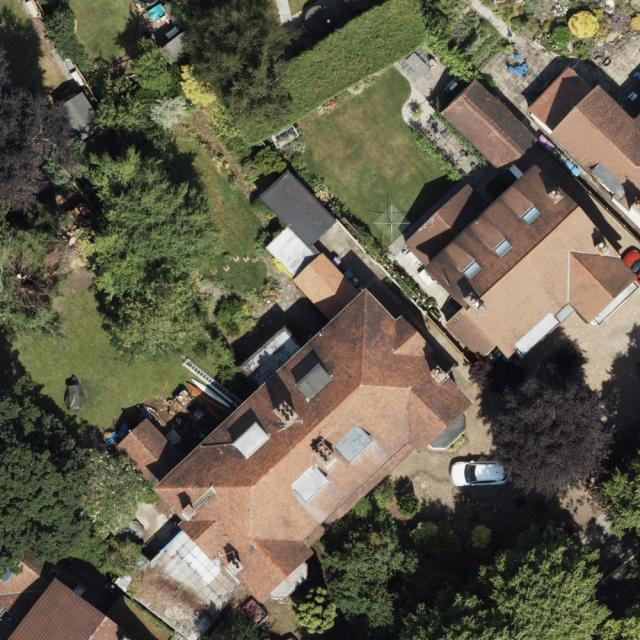roof: (111, 170, 474, 602), (404, 78, 638, 364), (526, 68, 640, 212), (0, 531, 143, 640)
skylight: (521, 204, 543, 227), (461, 260, 483, 281), (492, 239, 514, 260), (0, 605, 17, 626), (1, 567, 12, 582)
